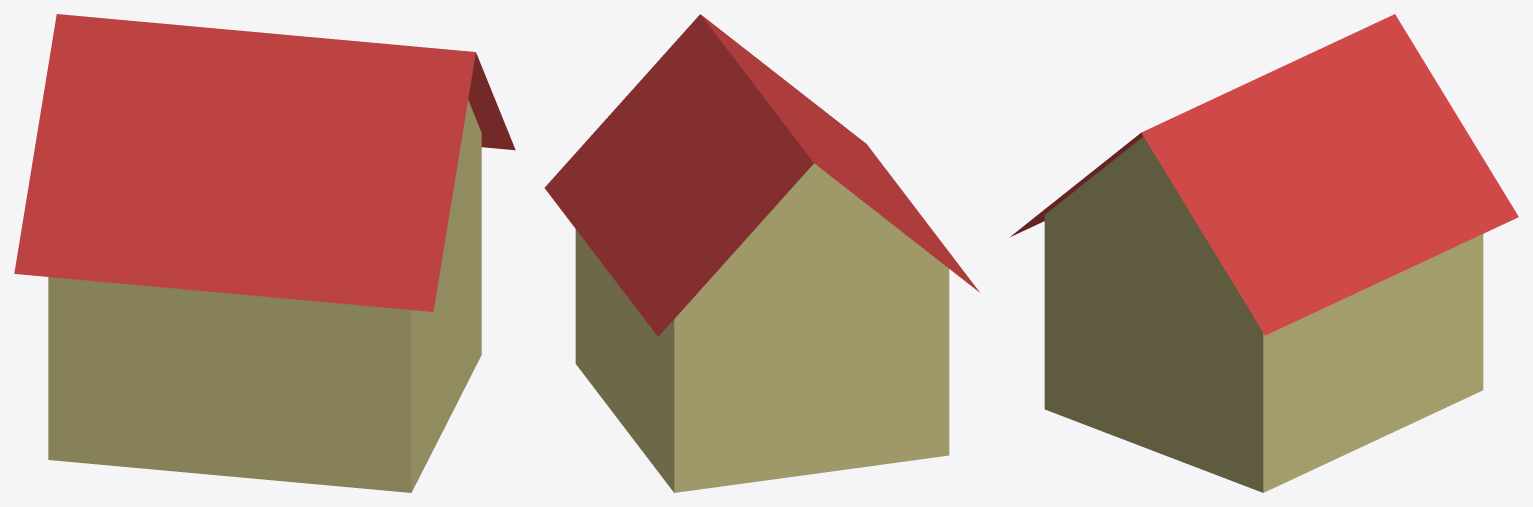
3 views of the same model, side by side, from view 1: azimuth 30°, elevation 25°; view 2: azimuth 150°, elevation 25°; view 3: azimuth 270°, elevation 25° (orthographic). The views are drawn at different scales.
Size of the model in its own units: 15.17 by 15.1 by 10.72.
